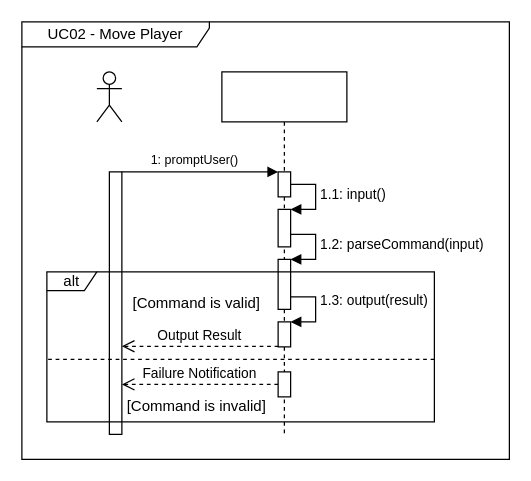
Image size: 531x481. Some labels were removed from this diagram. The shapes that lost their labels are listed below. From the top down, each one's centre as x and y in pixels, then its label:
pixel 109 96: :Player
pixel 284 252: :Console
